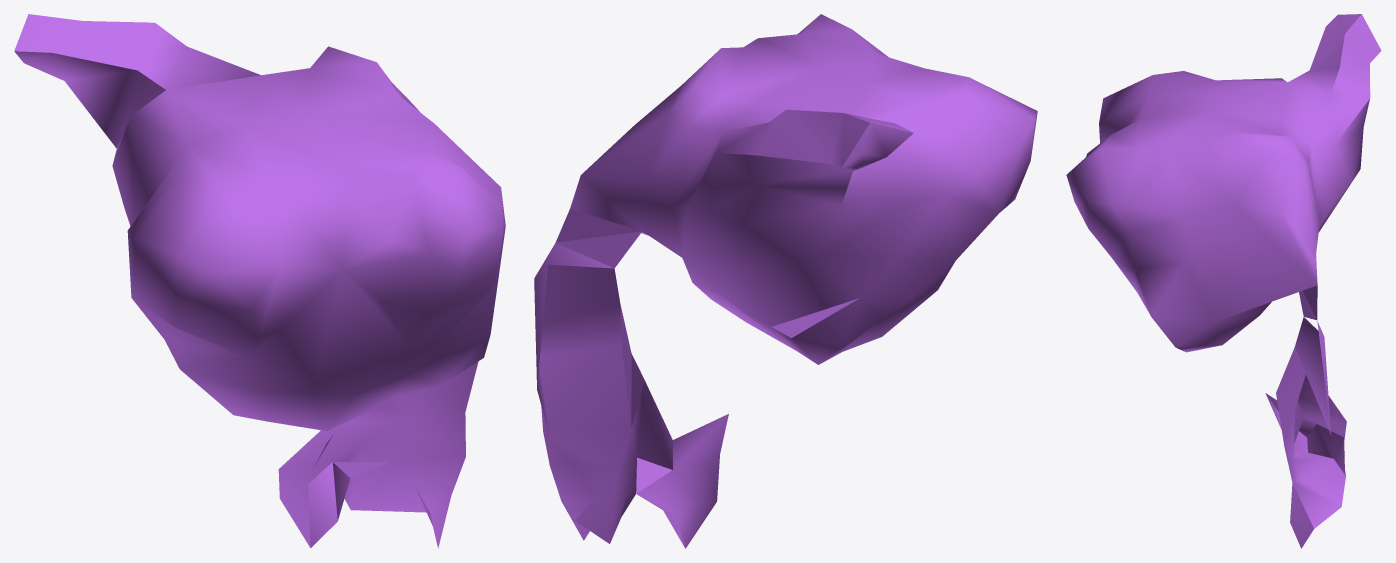
File: spl-384.glb
The picture shows the model from 3 angles, left to right: view 1: azimuth 30°, elevation 25°; view 2: azimuth 150°, elevation 25°; view 3: azimuth 270°, elevation 25°; orthographic projection. The views are drawn at different scales.
Parts seen in each view (by area): view 1: spl-384; view 2: spl-384; view 3: spl-384.
Part boxes in pixels (x1,y1,x2,y2): spl-384: (14,14,505,548); spl-384: (534,14,1037,548); spl-384: (1066,14,1381,548).
Size of the model in its own units: 6.64 by 8.41 by 5.84.
